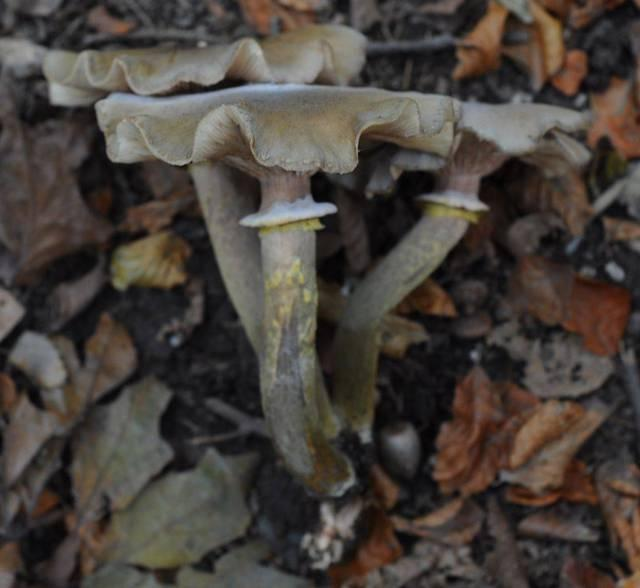edible_mushroom: (33, 21, 609, 294)
